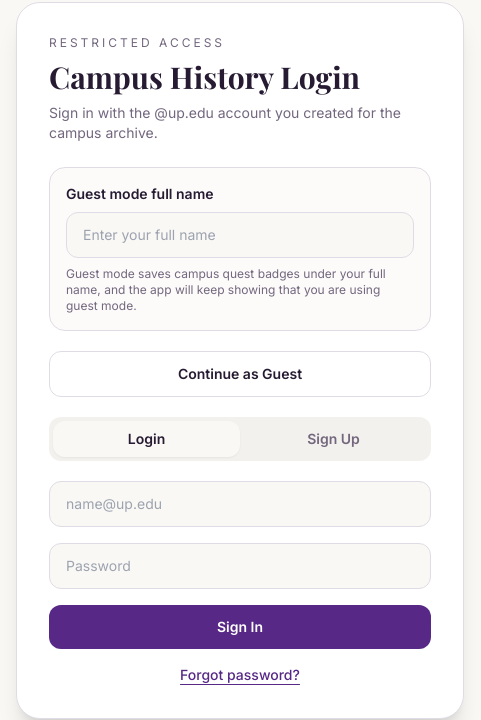
LoginGate › requires a full name before guest mode continues
Expected: the heading "Campus History Login" is shown, left=49, top=56, right=360, bottom=96
Step 1. Click the button "Continue as Guest" → (240, 374), box left=49, top=350, right=431, bottom=396
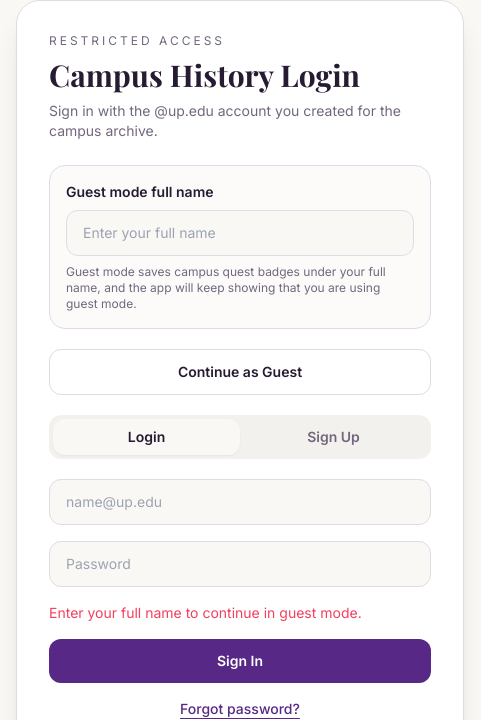
Result: the text "Enter your full name to continue in guest mode." is shown at left=49, top=604, right=362, bottom=621
